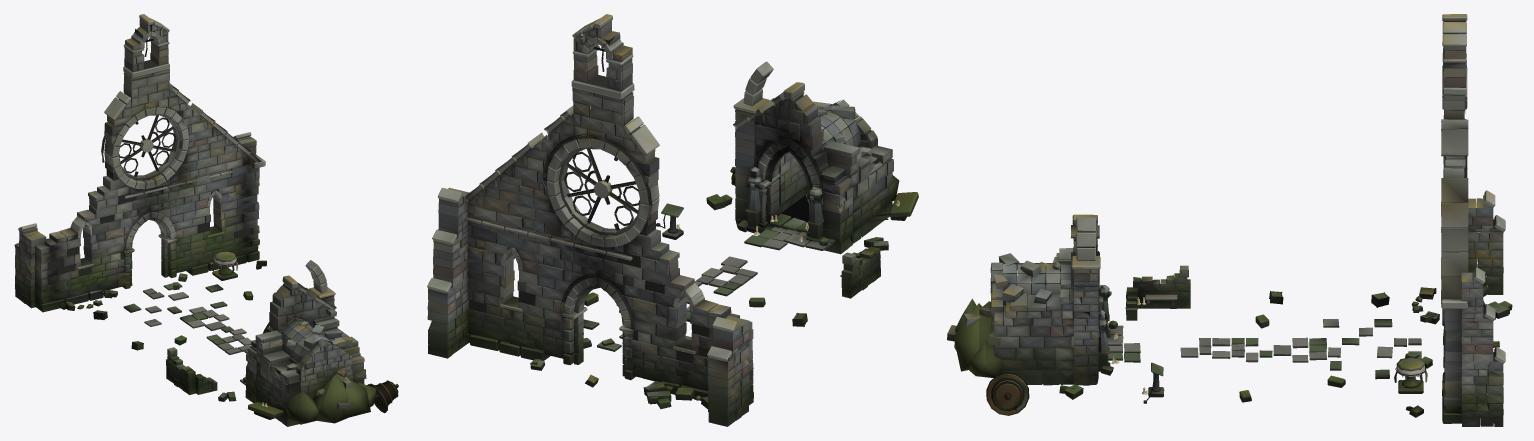
File: hollow_crypt_entrance.glb
The picture shows the model from 3 angles, left to right: view 1: azimuth 30°, elevation 25°; view 2: azimuth 150°, elevation 25°; view 3: azimuth 270°, elevation 25°; orthographic projection. The views are drawn at different scales.
Parts seen in each view (by area): view 1: Entrance_Gable, Entrance_StairHouse, Entrance_Details; view 2: Entrance_Gable, Entrance_StairHouse, Entrance_Details; view 3: Entrance_Gable, Entrance_StairHouse, Entrance_Details.
Part boxes in pixels (x1,y1,x2,y2): Entrance_Gable: (14, 14, 266, 312); Entrance_StairHouse: (218, 260, 376, 426); Entrance_Details: (93, 251, 398, 419); Entrance_Gable: (427, 14, 753, 426); Entrance_StairHouse: (706, 61, 899, 254); Entrance_Details: (583, 167, 918, 351); Entrance_Gable: (1405, 14, 1512, 426); Entrance_StairHouse: (947, 214, 1119, 399); Entrance_Details: (986, 265, 1432, 415).
Bounding box in the file's own units: 20 × 23.69 × 33.96.
